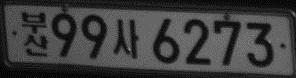2: (183, 18, 211, 64)
3: (246, 21, 274, 67)
6: (152, 18, 180, 64)
7: (213, 19, 241, 65)
9: (80, 14, 108, 58), (51, 12, 77, 57)
부산_V: (20, 12, 48, 56)
사: (112, 18, 140, 58)
